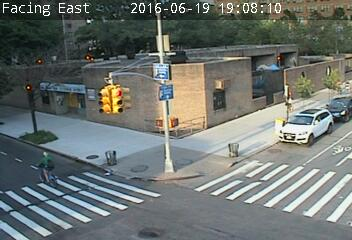neg: (28, 142, 66, 194), (263, 110, 289, 145), (94, 144, 119, 177)
